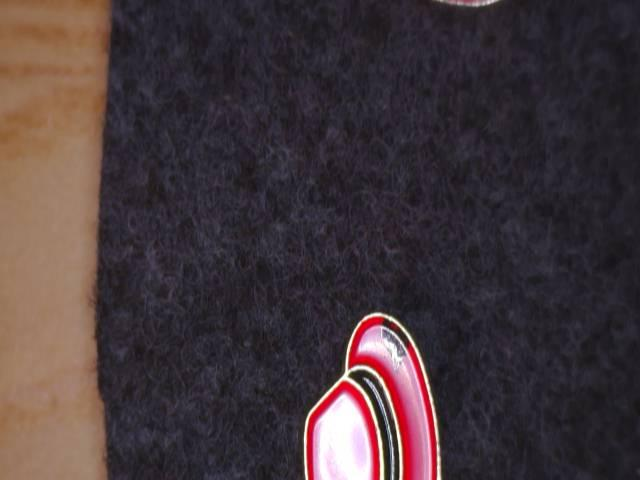Red-Hat: (287, 282, 481, 480)
Scratch: (366, 308, 431, 380)
